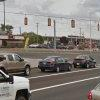Car: (37, 48, 96, 78)
